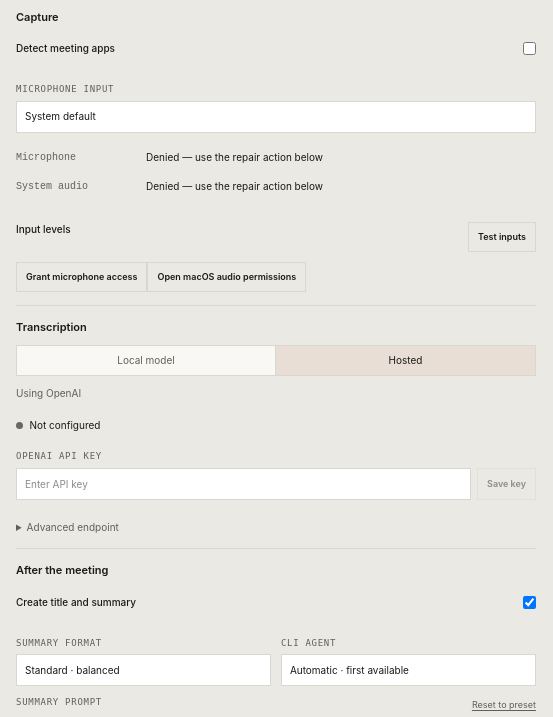
Test case: ScribeSettingsSection permission repair › confirms a Keychain save beside the credential control
Type "test-secret" into the password field with placeholder "Enter API key" at (243, 484), box [16,468,470,500]
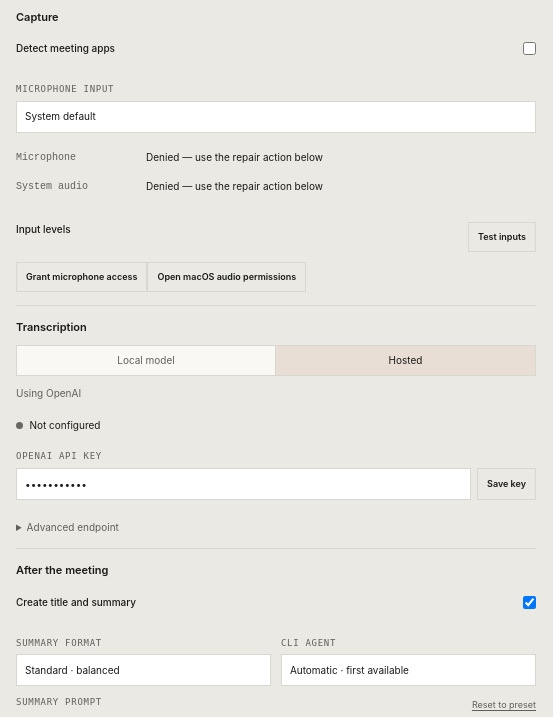
Submit the form from the button "Save key", box [477,468,536,500]
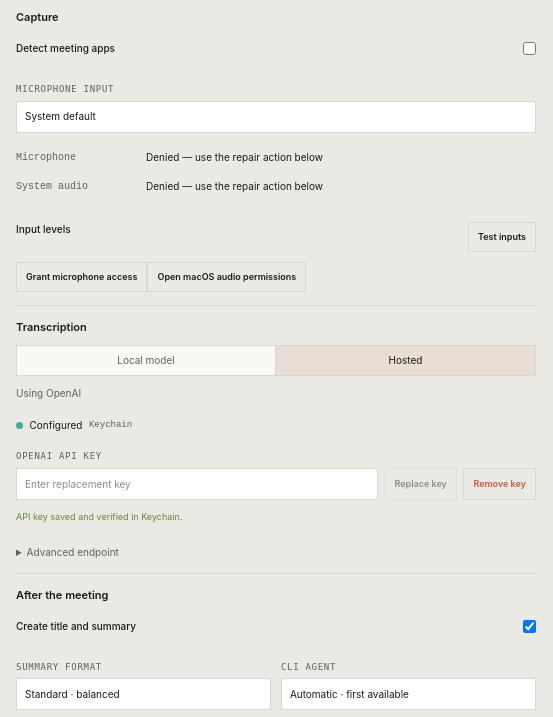
Expected: the message "API key saved and verified in Keychain." is shown, [16,510,182,522]
